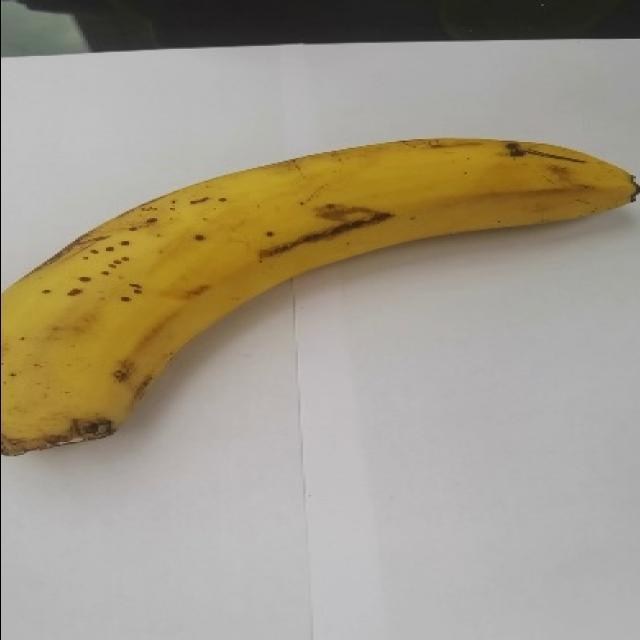Banana: (1, 135, 639, 456)
